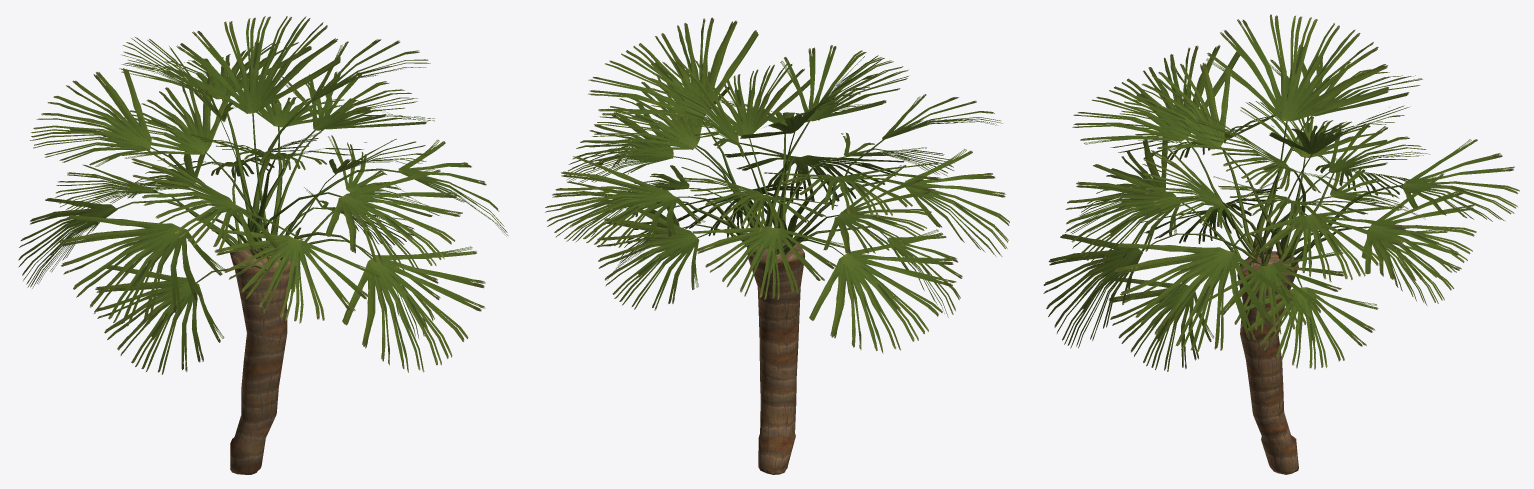
The model's file is NaturePlant06_2.FBX.
3 renders of one model, left to right at view 1: azimuth 30°, elevation 25°; view 2: azimuth 150°, elevation 25°; view 3: azimuth 270°, elevation 25°, orthographic. The views are drawn at different scales.
Parts seen in each view (by area): view 1: NaturePlant06_2; view 2: NaturePlant06_2; view 3: NaturePlant06_2.
Part boxes in pixels (x1=…): NaturePlant06_2: x1=18, y1=16, x2=508, y2=474; NaturePlant06_2: x1=545, y1=17, x2=1009, y2=474; NaturePlant06_2: x1=1043, y1=14, x2=1519, y2=474.
Size of what is drawn, in the model's own units: 2.6 by 2.49 by 2.62.
